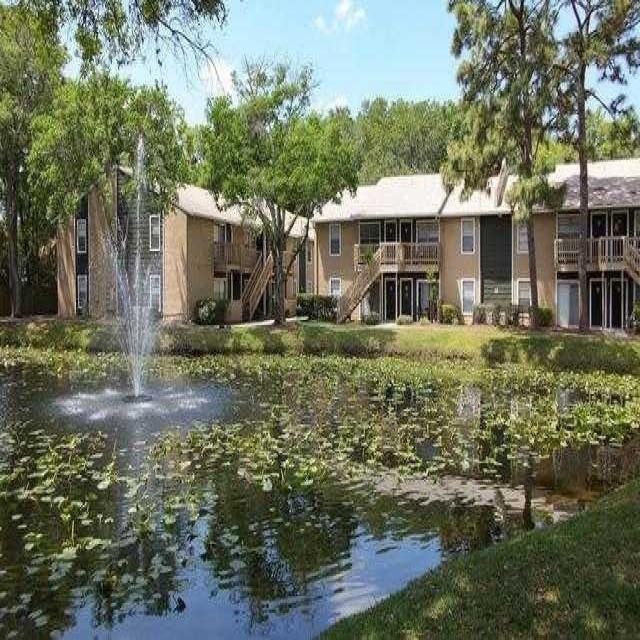Ponds: (2, 345, 639, 635)
